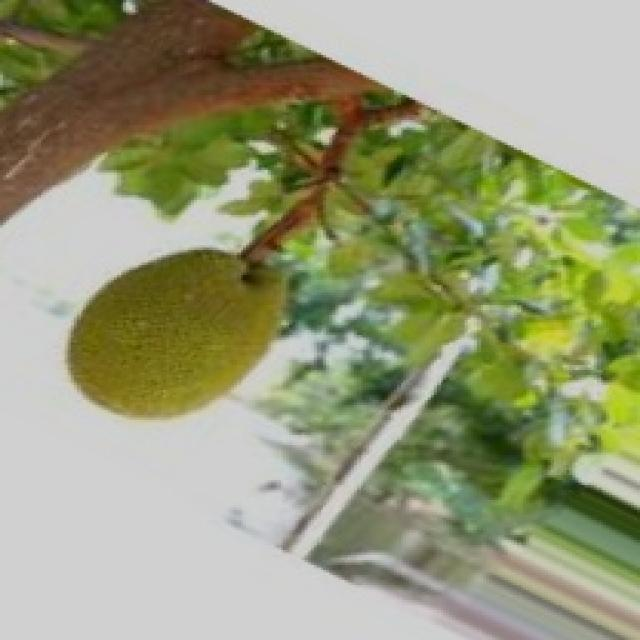Fruit: (40, 223, 320, 445)
